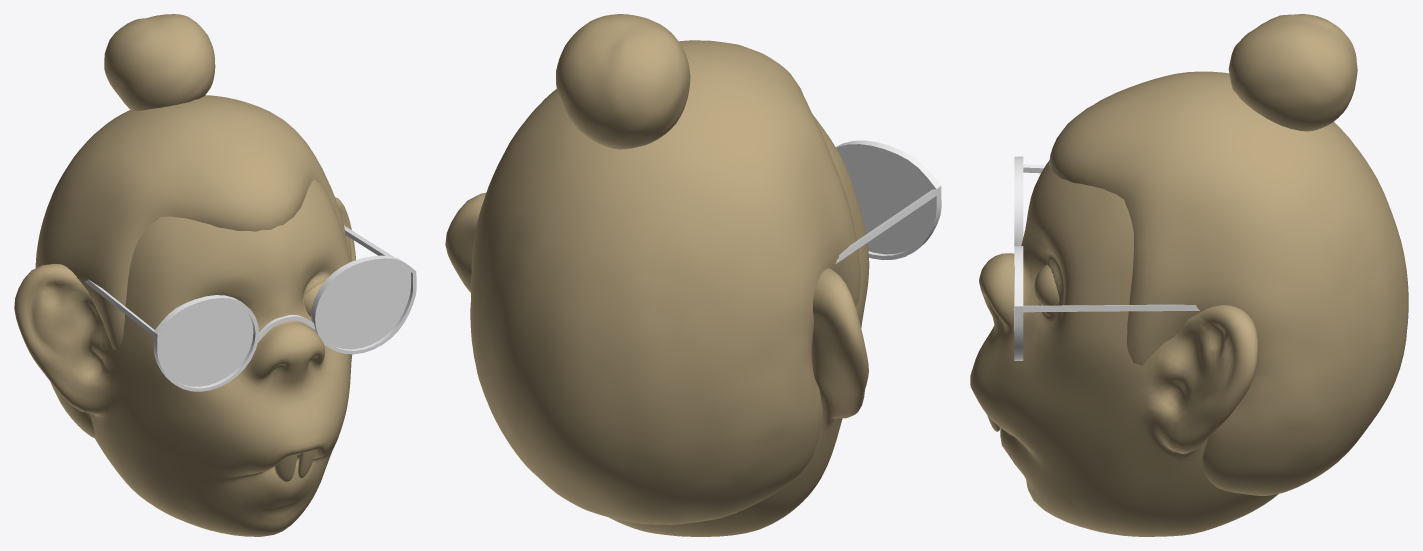
The model's file is SM_FemaleHead02.fbx.
The picture shows the model from 3 angles, left to right: view 1: azimuth 30°, elevation 25°; view 2: azimuth 150°, elevation 25°; view 3: azimuth 270°, elevation 25°; orthographic projection. The views are drawn at different scales.
Visible parts, largest first — view 1: PM3D_Spdsfaghjhere3D1_1; view 2: PM3D_Spdsfaghjhere3D1_1; view 3: PM3D_Spdsfaghjhere3D1_1.
Part boxes in pixels (x1,y1,x2,y2): PM3D_Spdsfaghjhere3D1_1: [14, 14, 416, 536]; PM3D_Spdsfaghjhere3D1_1: [445, 14, 941, 536]; PM3D_Spdsfaghjhere3D1_1: [970, 14, 1408, 536].
Bounding box in the file's own units: 11.62 × 14.84 × 11.73.
